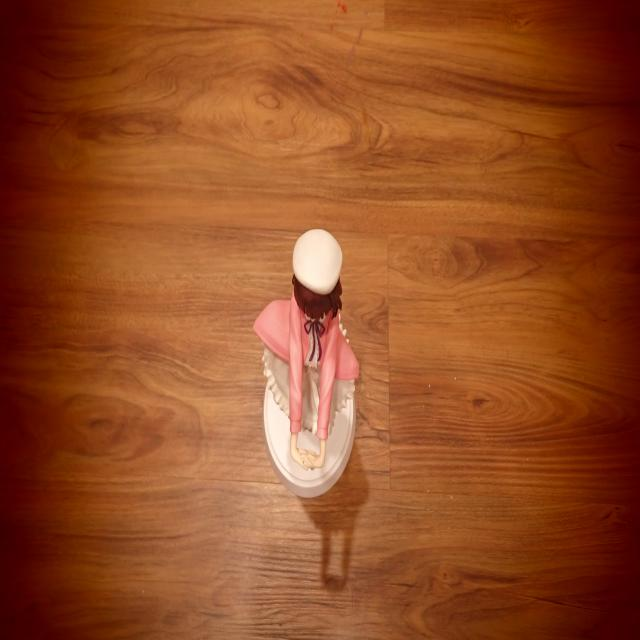My-pink-anime-figure: (254, 230, 358, 469)
